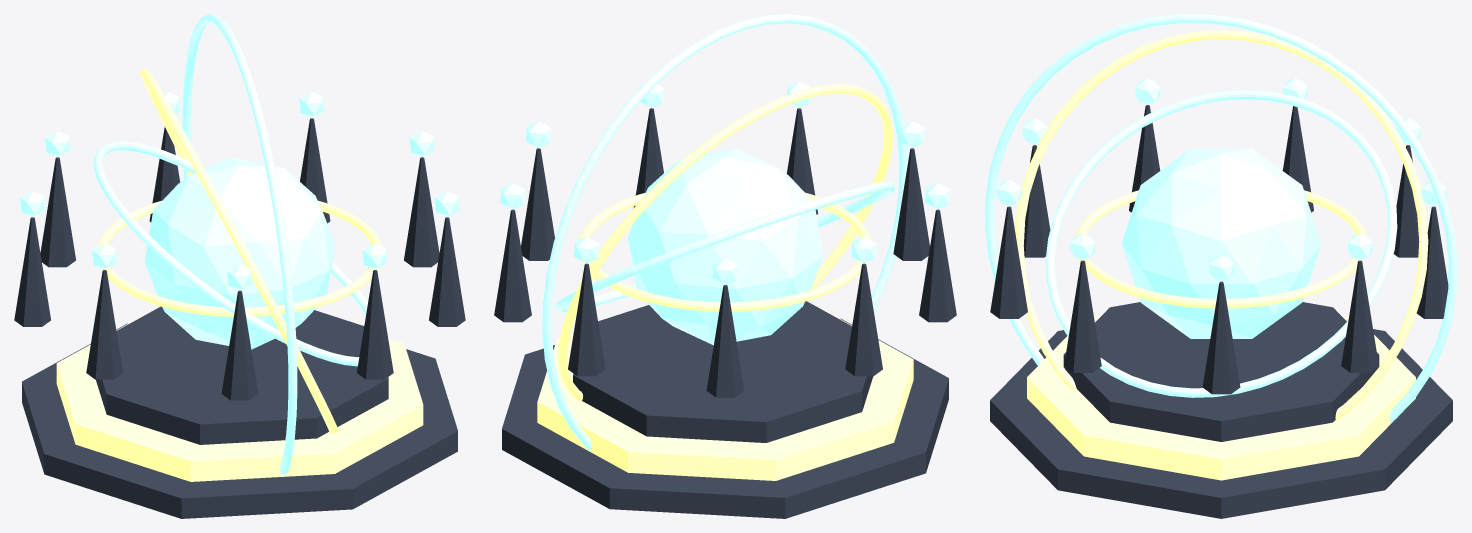
File: gpu-blender-v51.glb
3 views of the same model, side by side, from view 1: azimuth 30°, elevation 25°; view 2: azimuth 150°, elevation 25°; view 3: azimuth 270°, elevation 25° (orthographic). The views are drawn at different scales.
Parts seen in each view (by area): view 1: Cylinder.002, Cylinder, SovereignCore_agent-capsule-jail, Cylinder.001, Torus.003, Torus.001, Torus.002, Torus, Cone.006, Cone, Cone.003, Cone.005 (+13 smaller); view 2: Cylinder.002, SovereignCore_agent-capsule-jail, Cylinder, Cylinder.001, Torus.003, Torus.002, Torus.001, Torus, Cone.002, Cone.004, Cone.001, Cone.005 (+12 smaller); view 3: SovereignCore_agent-capsule-jail, Cylinder.002, Cylinder, Cylinder.001, Torus.003, Torus.002, Torus.001, Torus, Cone, Cone.007, Cone.001, Cone.008 (+9 smaller).
Part boxes in pixels (x1=…): Cylinder.002: x1=96, y1=306, x2=388, y2=444; Cylinder: x1=22, y1=323, x2=457, y2=518; SovereignCore_agent-capsule-jail: x1=144, y1=157, x2=335, y2=349; Cylinder.001: x1=56, y1=314, x2=423, y2=481; Torus.003: x1=182, y1=14, x2=297, y2=474; Torus.001: x1=93, y1=141, x2=367, y2=366; Torus.002: x1=140, y1=68, x2=338, y2=433; Torus: x1=98, y1=200, x2=381, y2=316; Cone.006: x1=221, y1=290, x2=258, y2=400; Cone: x1=404, y1=157, x2=439, y2=267; Cone.003: x1=40, y1=157, x2=75, y2=267; Cone.005: x1=86, y1=270, x2=122, y2=379; Cylinder.002: x1=573, y1=301, x2=873, y2=442; SovereignCore_agent-capsule-jail: x1=627, y1=148, x2=823, y2=345; Cylinder: x1=502, y1=318, x2=948, y2=518; Cylinder.001: x1=537, y1=309, x2=913, y2=480; Torus.003: x1=542, y1=14, x2=908, y2=450; Torus.002: x1=558, y1=84, x2=892, y2=401; Torus.001: x1=556, y1=181, x2=894, y2=312; Torus: x1=580, y1=192, x2=870, y2=311; Cone.002: x1=568, y1=263, x2=605, y2=376; Cone.004: x1=845, y1=263, x2=882, y2=376; Cone.001: x1=494, y1=209, x2=531, y2=322; Cone.005: x1=919, y1=209, x2=956, y2=322; SovereignCore_agent-capsule-jail: x1=1121, y1=149, x2=1321, y2=338; Cylinder.002: x1=1063, y1=302, x2=1379, y2=441; Cylinder: x1=990, y1=329, x2=1452, y2=518; Cylinder.001: x1=1027, y1=316, x2=1415, y2=480; Torus.003: x1=985, y1=14, x2=1457, y2=422; Torus.002: x1=1015, y1=30, x2=1428, y2=421; Torus.001: x1=1045, y1=90, x2=1397, y2=397; Torus: x1=1076, y1=190, x2=1366, y2=308; Cone: x1=1202, y1=281, x2=1240, y2=394; Cone.007: x1=990, y1=206, x2=1027, y2=318; Cone.001: x1=1341, y1=260, x2=1378, y2=372; Cone.008: x1=1064, y1=260, x2=1101, y2=372.
Bounding box in the file's own units: 4.41 × 4.7 × 4.49.
